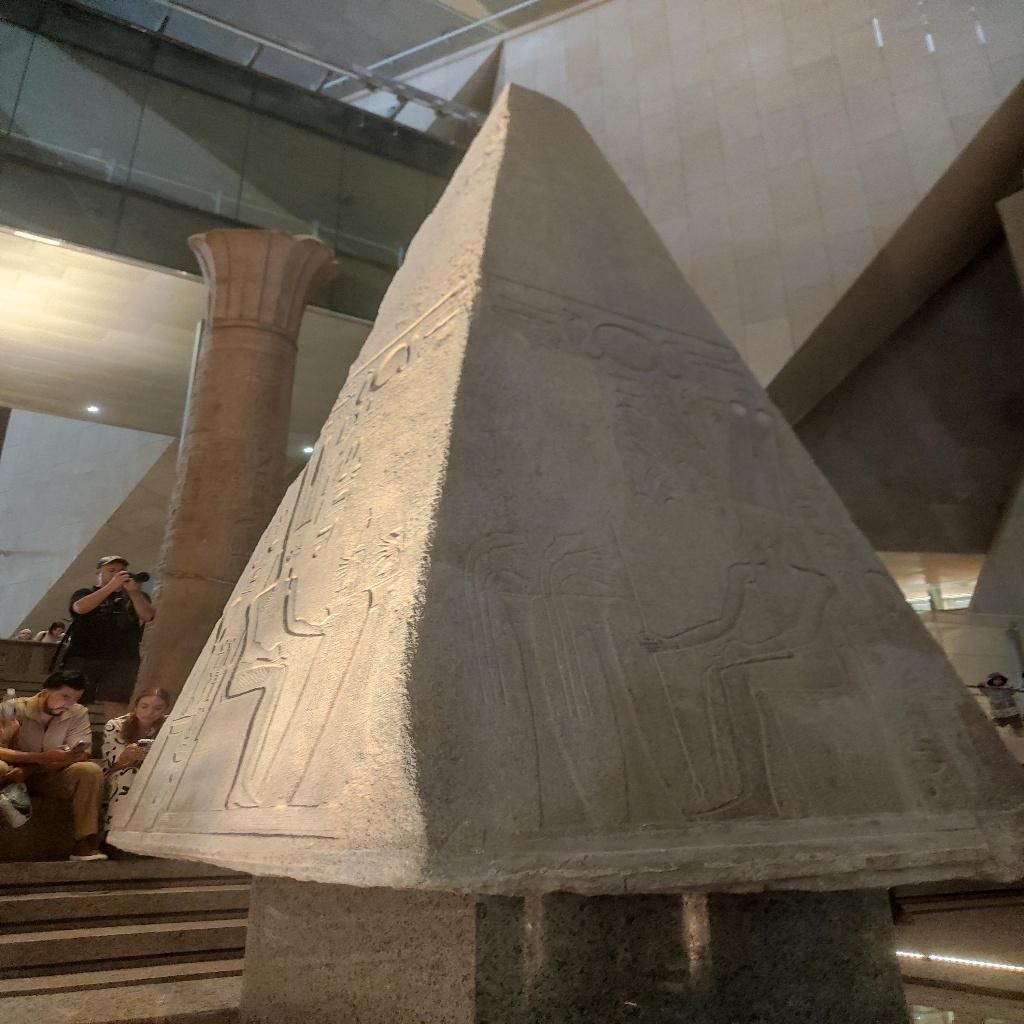Obelsik Tip of Hatshepsut: (122, 88, 1010, 876)
